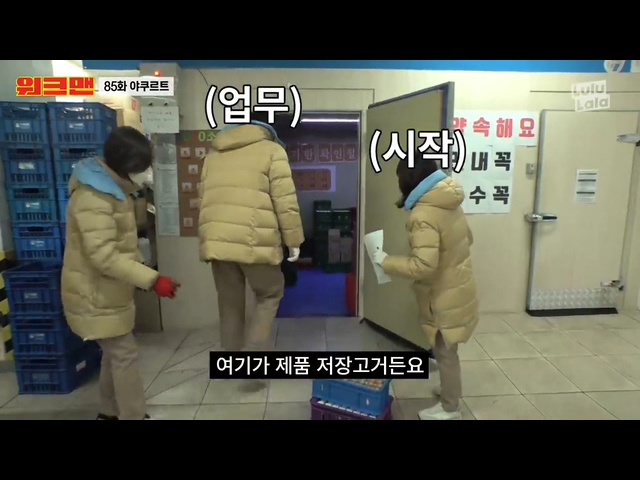Yakurut: (74, 141, 170, 417), (207, 136, 299, 356), (380, 179, 489, 353)
